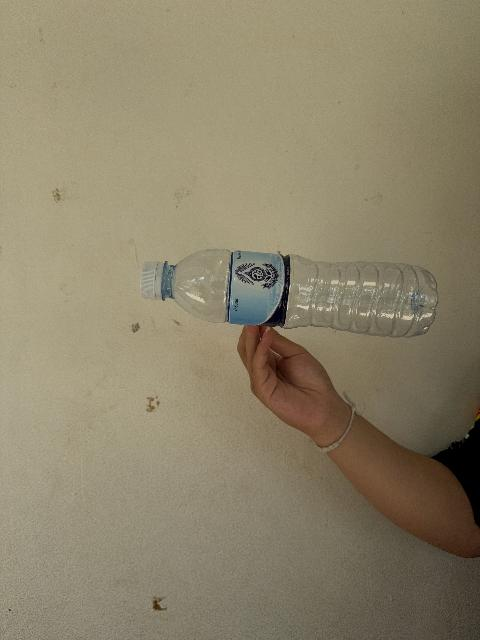bottle: (141, 250, 437, 336)
